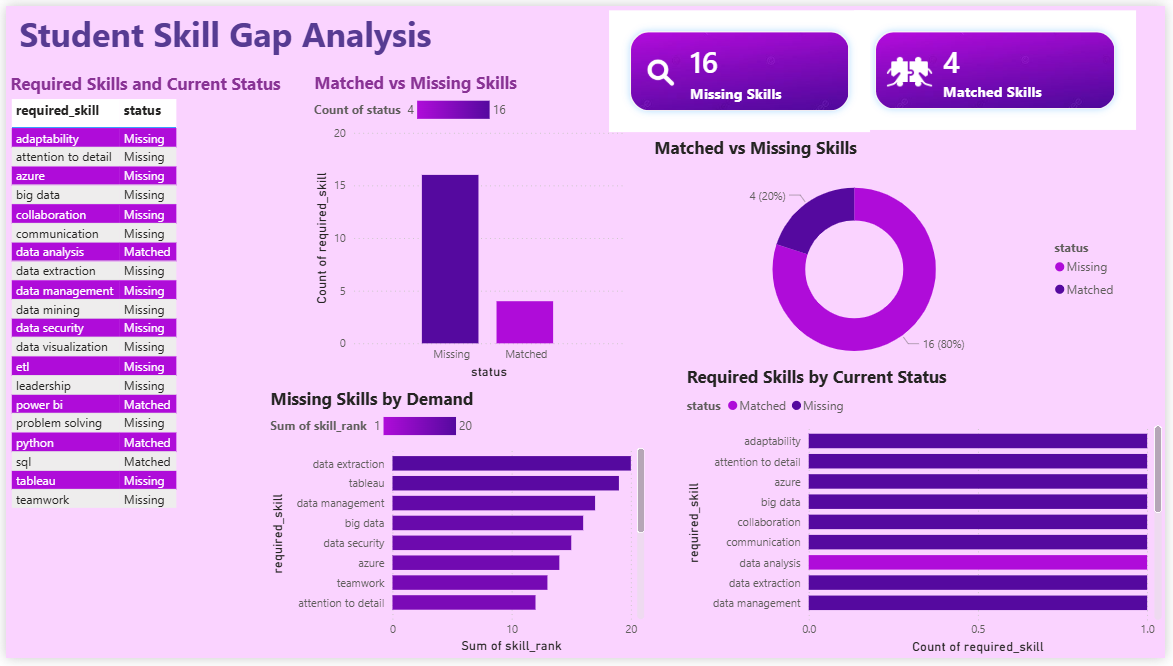

What the dashboard file says about the page in this screenshot:
{"tool":"powerbi","page":{"name":"Student Skill Gap","canvas":[1280,720],"ordinal":3},"visuals":[{"type":"textbox","box":[9.6,0,688.3,67.4],"z":0},{"type":"cardVisual","fields":{"Data":["SkillGap.Matched Skills"]},"box":[931.4,0,321.4,142.9],"z":1000},{"type":"cardVisual","fields":{"Data":["SkillGap.Missing Skills"]},"box":[661.4,0,298.6,144.3],"z":2000},{"type":"clusteredColumnChart","title":"Matched vs Missing Skills","fields":{"Category":["SkillGap.status"],"Y":["CountNonNull(SkillGap.required_skill)"]},"box":[335.7,71.4,351.4,344.3],"z":3000},{"type":"tableEx","title":"Required Skills and Current Status","fields":{"Values":["SkillGap.required_skill","SkillGap.status"]},"box":[0,72.9,310,517.1],"z":4000},{"type":"clusteredBarChart","title":"Missing Skills by Demand","fields":{"Category":["SkillGap.required_skill"],"Y":["Sum(SkillGap.skill_rank)"]},"box":[287.1,421.4,422.9,298.6],"z":5000},{"type":"barChart","title":"Required Skills by Current Status","fields":{"Category":["SkillGap.required_skill"],"Y":["CountNonNull(SkillGap.required_skill)"],"Series":["SkillGap.status"]},"box":[745.7,395.7,534.3,324.3],"z":6000},{"type":"donutChart","title":"Matched vs Missing Skills","fields":{"Category":["SkillGap.status"],"Y":["CountNonNull(SkillGap.required_skill)"]},"box":[710,142.9,525.7,270],"z":7000}]}

Visuals, with their boxes in screenshot pixels (x1, y1, x2, y2), scaled from the page's 1280x720 canvas onto the 1173x666 screenshot:
textbox: <region>9, 0, 640, 62</region>
cardVisual - SkillGap.Matched Skills: <region>854, 0, 1148, 132</region>
cardVisual - SkillGap.Missing Skills: <region>606, 0, 880, 133</region>
"Matched vs Missing Skills" clusteredColumnChart: <region>308, 66, 630, 385</region>
"Required Skills and Current Status" tableEx: <region>0, 67, 284, 546</region>
"Missing Skills by Demand" clusteredBarChart: <region>263, 390, 651, 665</region>
"Required Skills by Current Status" barChart: <region>683, 366, 1172, 665</region>
"Matched vs Missing Skills" donutChart: <region>651, 132, 1132, 382</region>
